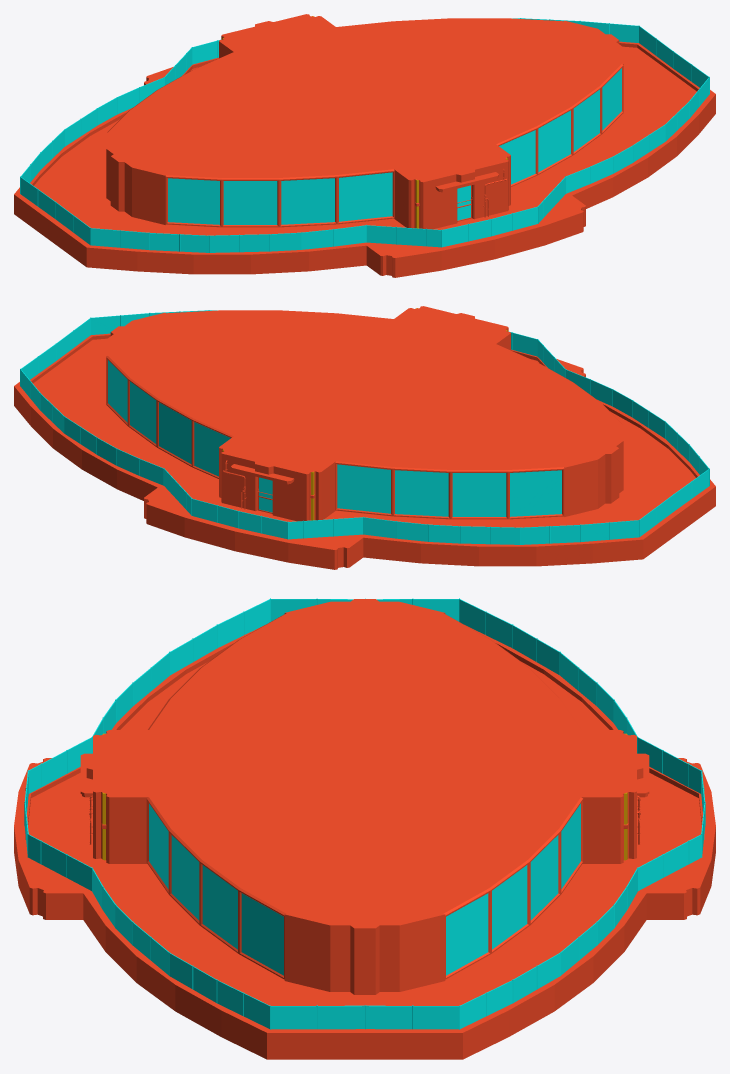
The model's file is SM_Skyscraper_B_Setback_City.fbx.
The picture shows the model from 3 angles, top to bottom: view 1: azimuth 30°, elevation 25°; view 2: azimuth 150°, elevation 25°; view 3: azimuth 270°, elevation 25°; orthographic projection. The views are drawn at different scales.
Visible parts, largest first — view 1: SM_Skyscraper_B_Setback_City; view 2: SM_Skyscraper_B_Setback_City; view 3: SM_Skyscraper_B_Setback_City.
Part boxes in pixels (x1=…): SM_Skyscraper_B_Setback_City: x1=14, y1=14, x2=715, y2=277; SM_Skyscraper_B_Setback_City: x1=14, y1=306, x2=715, y2=569; SM_Skyscraper_B_Setback_City: x1=14, y1=598, x2=715, y2=1059.
Size of the model in its own units: 40 by 4 by 28.65.
